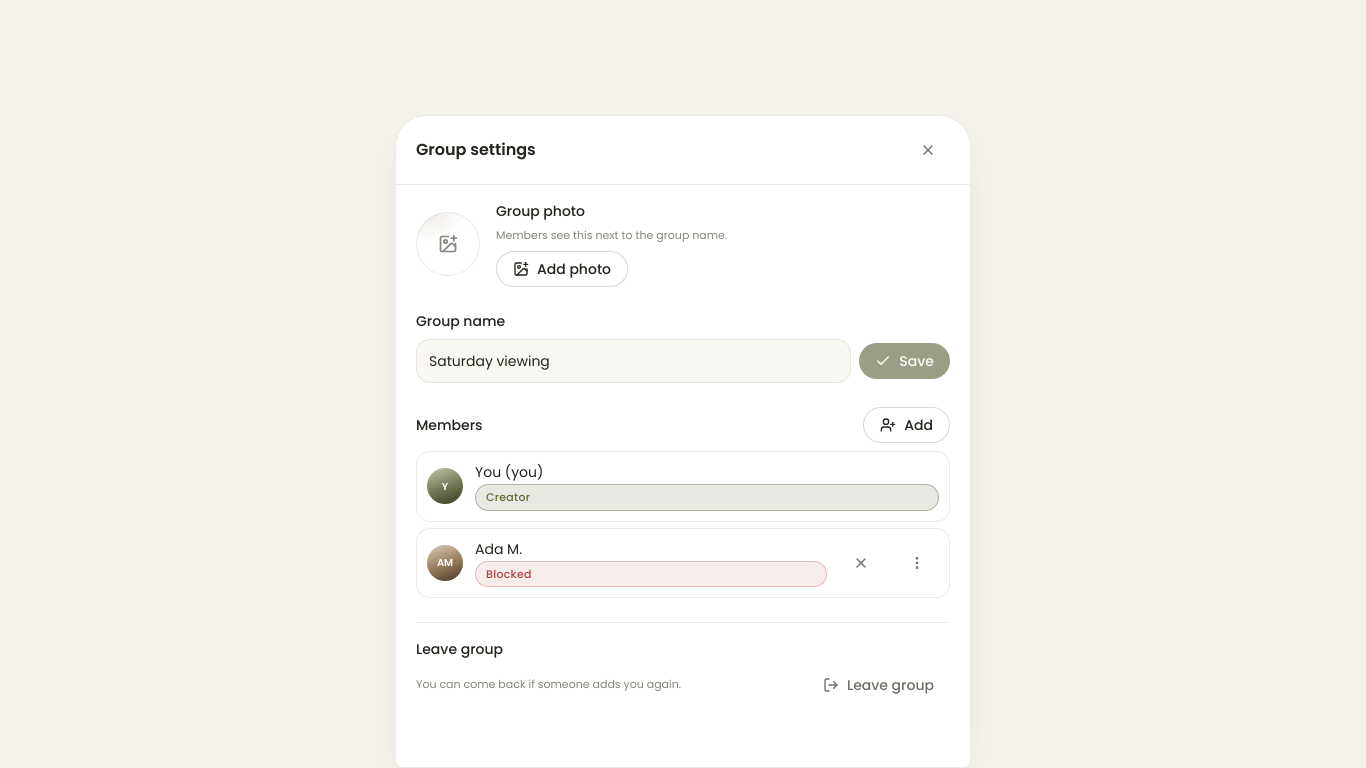
Test: group member safety › will not offer a block the database would refuse
Click the button named "Options for Ada M." at (917, 563), box [895,541,939,585]
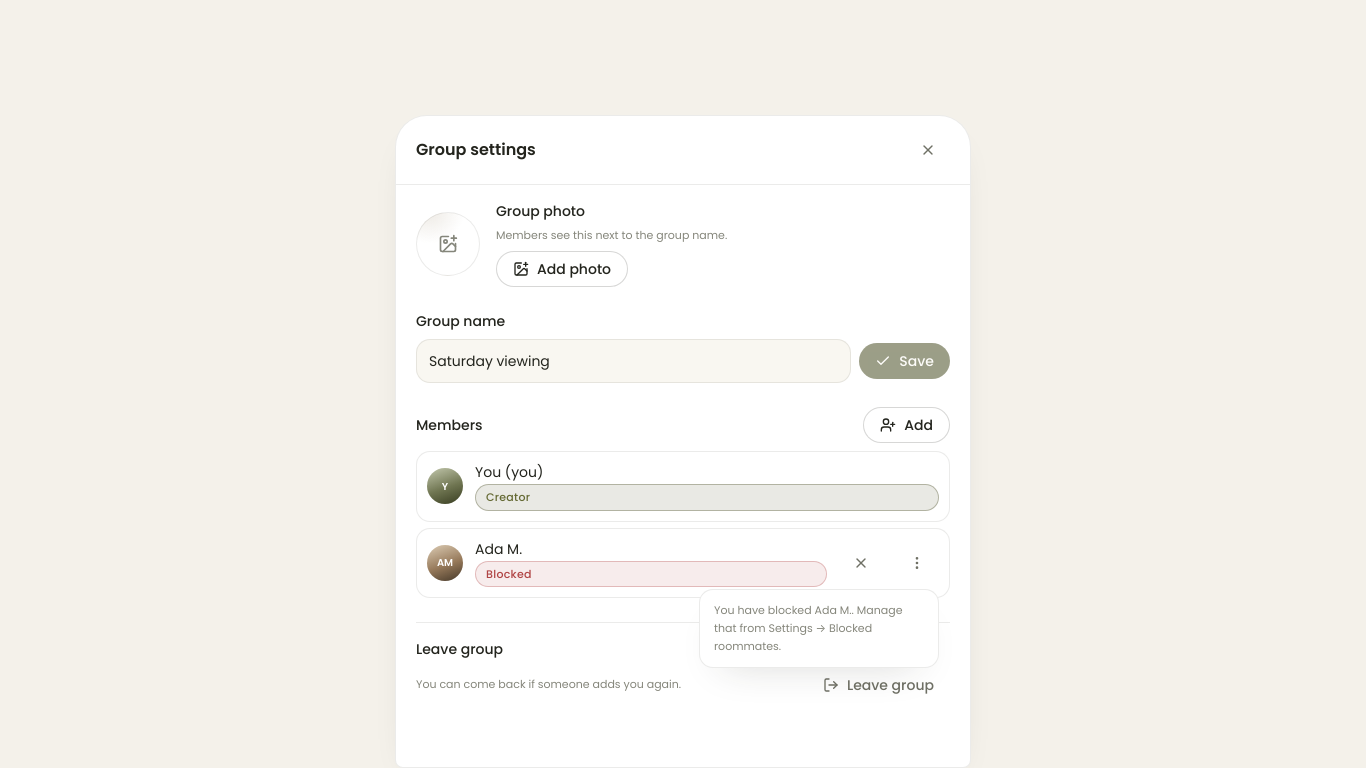
expect the text "Blocked" is shown: met, box [475,561,827,587]
expect the text "You have blocked Ada M." is shown: met, box [714,602,902,654]
